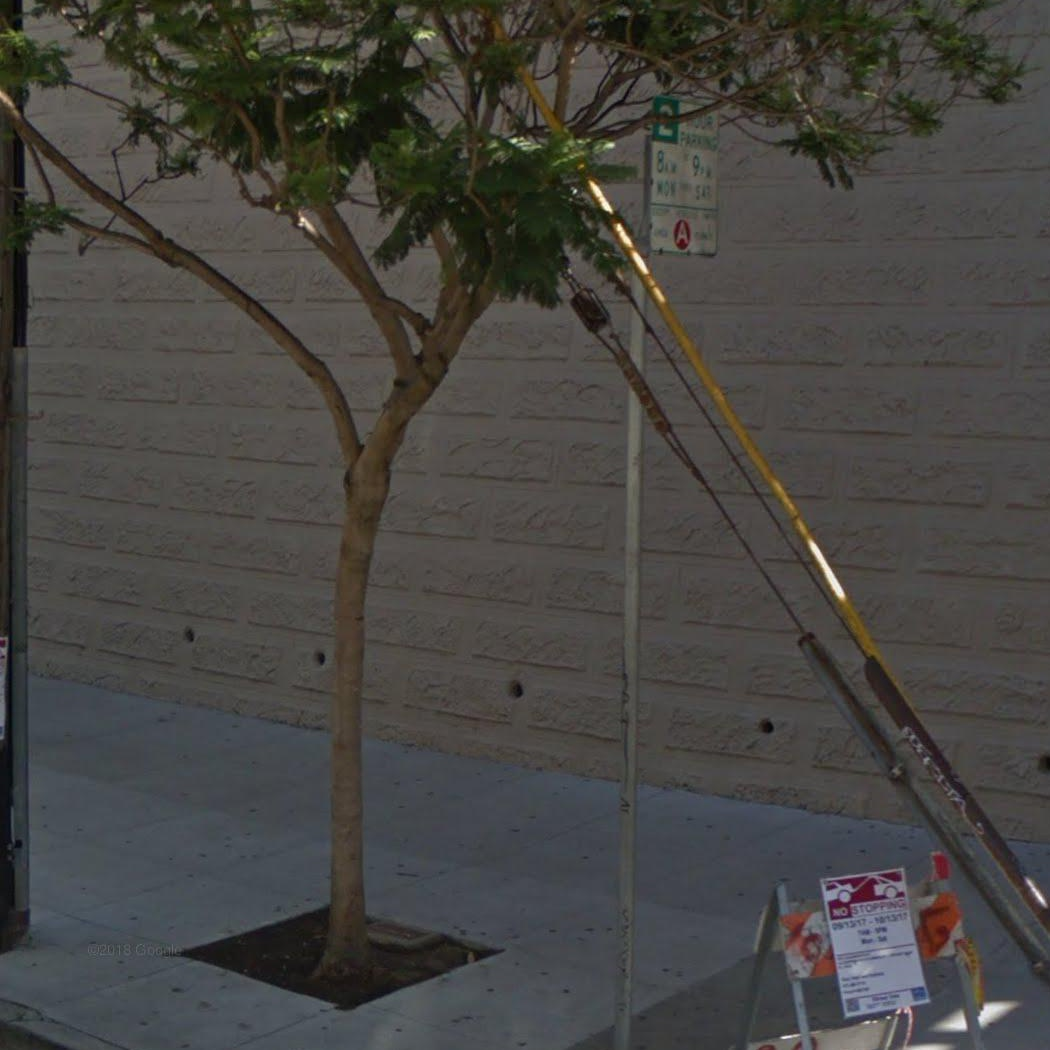2 Hour Parking: (644, 93, 724, 258)
